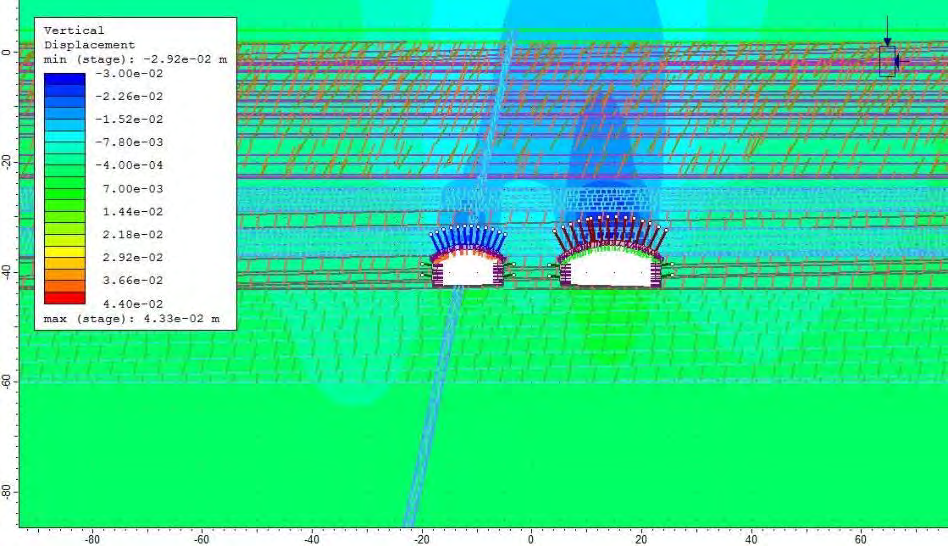crown: (602, 230, 623, 239), (463, 236, 479, 243)
label: (35, 15, 234, 326)
tunnel-opening: (564, 239, 659, 285), (432, 245, 504, 286)
